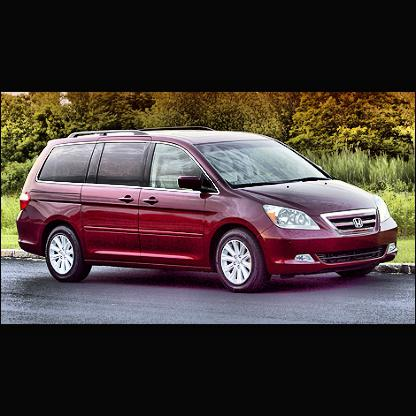Honda Odyssey Minivan 2007: (18, 128, 398, 293)
